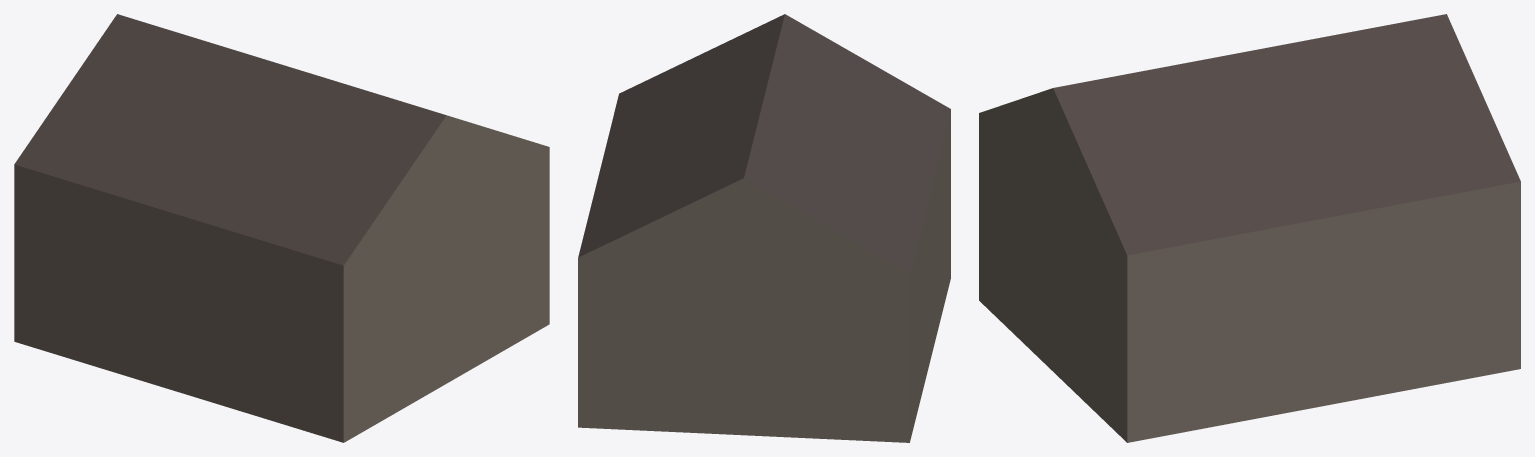
The picture shows the model from 3 angles, left to right: view 1: azimuth 30°, elevation 25°; view 2: azimuth 150°, elevation 25°; view 3: azimuth 270°, elevation 25°; orthographic projection. The views are drawn at different scales.
Parts seen in each view (by area): view 1: HP-w293412304; view 2: HP-w293412304; view 3: HP-w293412304.
Boxes of the visible parts, x1,y1,x2,y2 form: HP-w293412304: [14, 14, 549, 442]; HP-w293412304: [578, 14, 950, 442]; HP-w293412304: [979, 14, 1520, 442].
Bounding box in the file's own units: 14.85 × 9.08 × 15.72.
